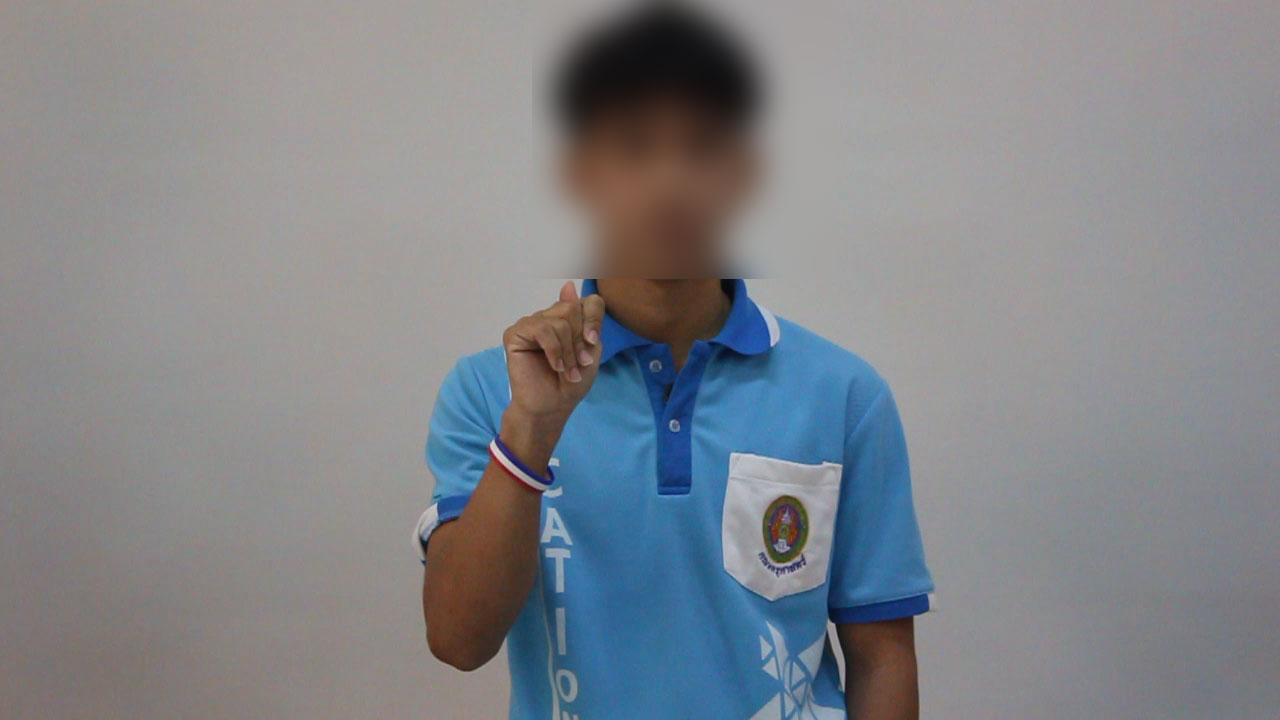tor: (482, 273, 633, 454)
